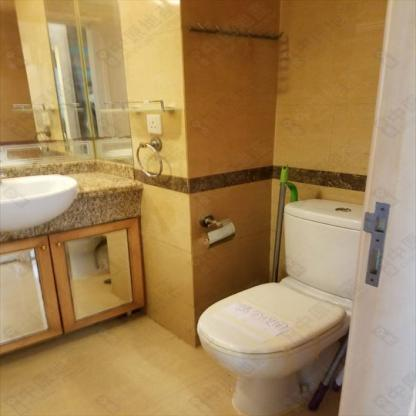Toilet: (198, 198, 363, 415)
Toilet Sink: (1, 173, 77, 232)
